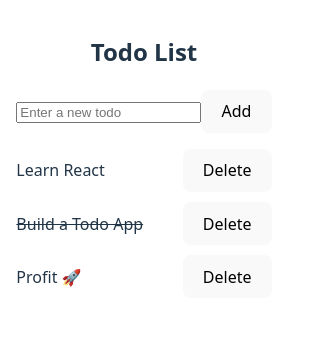
Test: TodoList - Add, Toggle, Delete › adds a new todo (using fireEvent for input + submission)
This screenshot has width=320, height=341.
Type "Buy milk" into the field with placeholder "Enter a new todo".
click(109, 113); type("Buy milk")  # box [16,102,201,123]
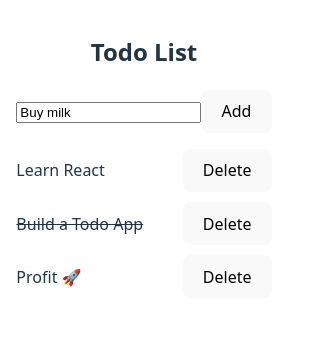
Click the button "Add".
click(237, 111)  # box [201,90,272,133]
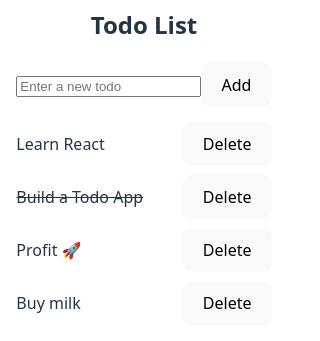
Now the text "Buy milk" is shown, box [16,291,81,315]
Now the number of list items is 4, box [16,122,272,165]; [16,175,272,218]; [16,228,272,272]; [16,282,272,325]
